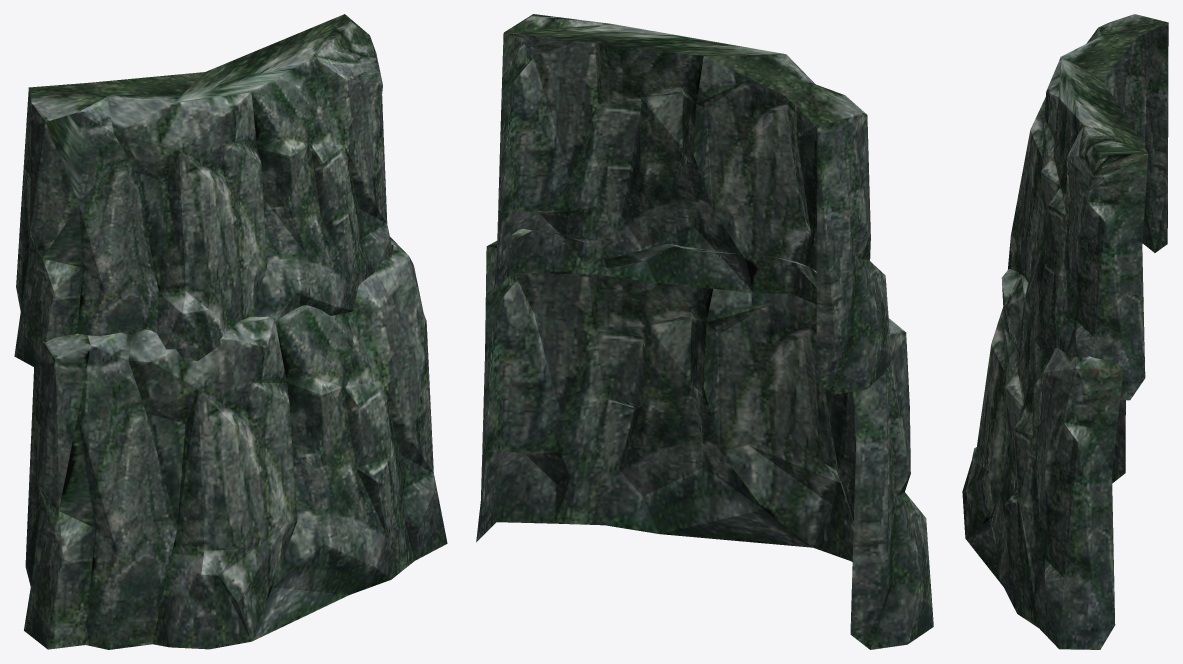
Rendered from lianqizong_shitou01_st.FBX.
The picture shows the model from 3 angles, left to right: view 1: azimuth 30°, elevation 25°; view 2: azimuth 150°, elevation 25°; view 3: azimuth 270°, elevation 25°; orthographic projection. The views are drawn at different scales.
Visible parts, largest first — view 1: lianqizong_shitou01_st_A; view 2: lianqizong_shitou01_st_A; view 3: lianqizong_shitou01_st_A.
Boxes of the visible parts, x1=… form: lianqizong_shitou01_st_A: x1=14, y1=14, x2=447, y2=649; lianqizong_shitou01_st_A: x1=476, y1=14, x2=933, y2=649; lianqizong_shitou01_st_A: x1=962, y1=14, x2=1168, y2=649.
Bounding box in the file's own units: 394 × 482 × 187.
